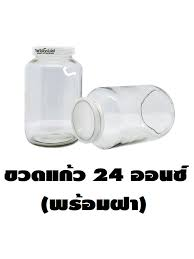glass_bottle: (17, 39, 179, 157)
